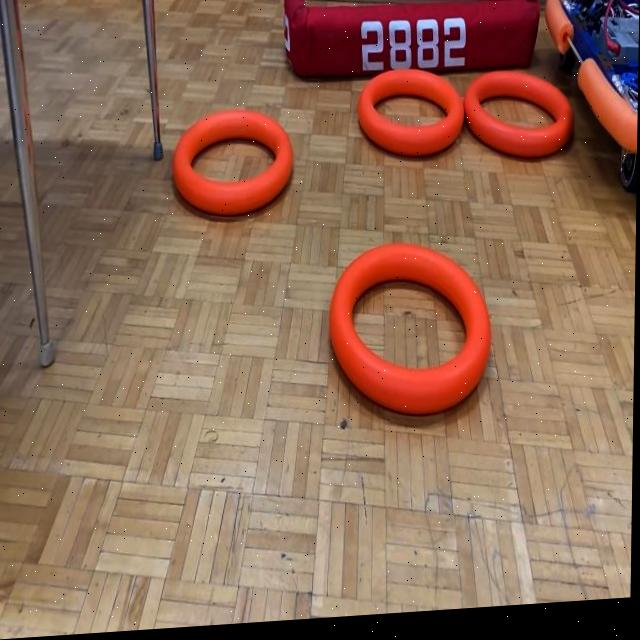note: (330, 243, 494, 428), (171, 111, 295, 222), (356, 68, 466, 167), (465, 75, 574, 173)
robot: (542, 0, 640, 208)
